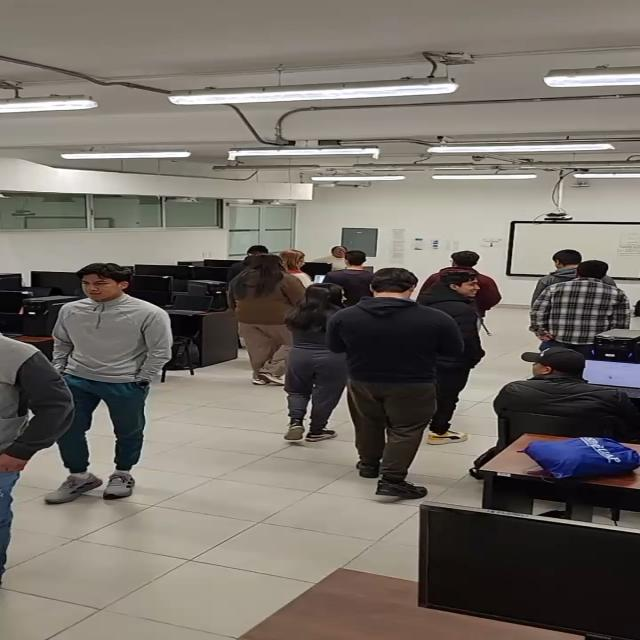Persona: (328, 268, 467, 502), (44, 261, 170, 505), (224, 253, 314, 388), (282, 283, 357, 442), (422, 268, 488, 445), (527, 260, 632, 357), (418, 250, 502, 318), (529, 249, 621, 300), (324, 246, 391, 303), (277, 250, 316, 290)
